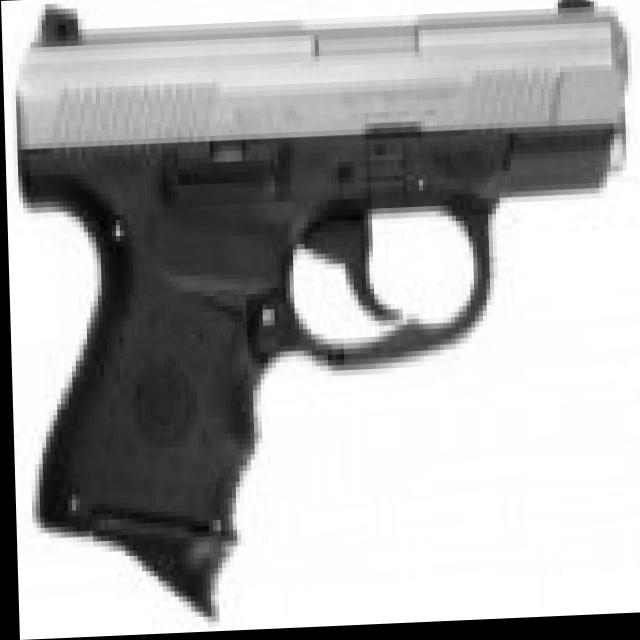handgun: (12, 0, 638, 608)
